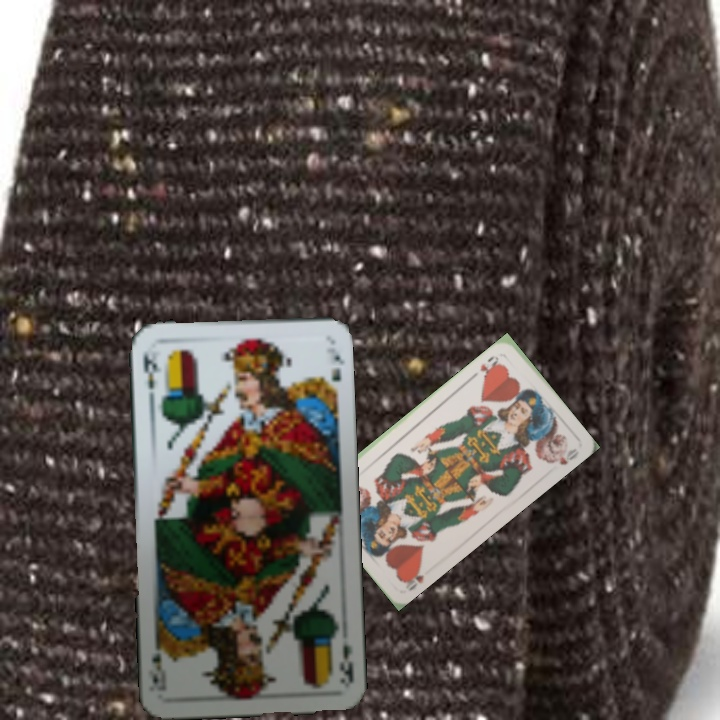EK: (140, 350, 159, 404), (335, 639, 356, 685)
HO: (399, 561, 427, 593), (476, 351, 503, 380)
